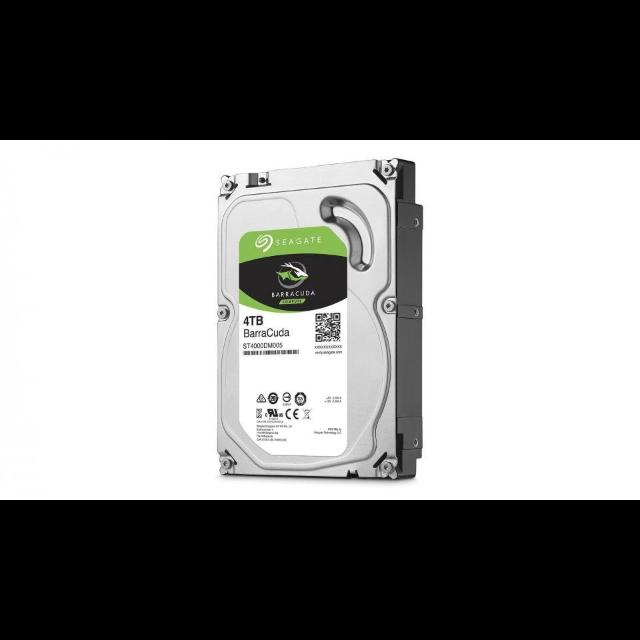HDD: (215, 158, 426, 482)
